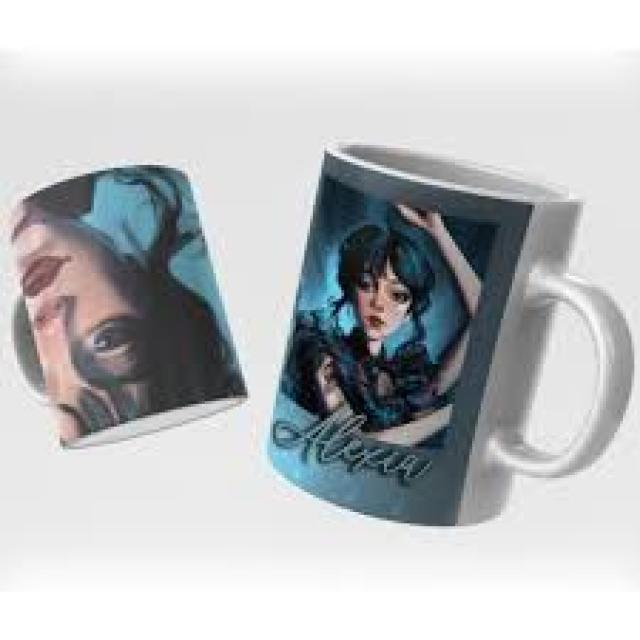taza: (260, 126, 635, 536), (0, 165, 252, 456)
